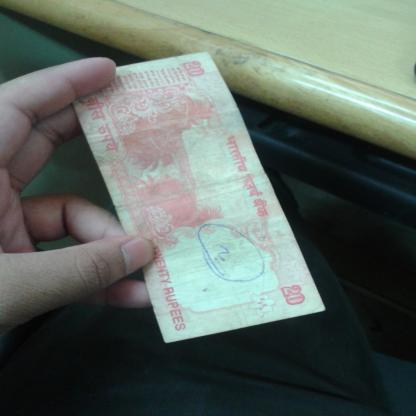Old20Back: (74, 52, 326, 343)
